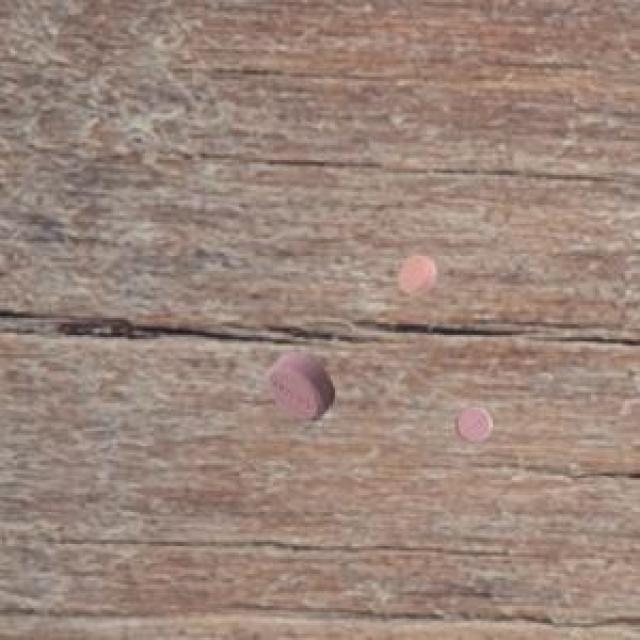Kremil_S: (253, 345, 341, 442), (384, 241, 448, 311), (448, 400, 500, 454)
